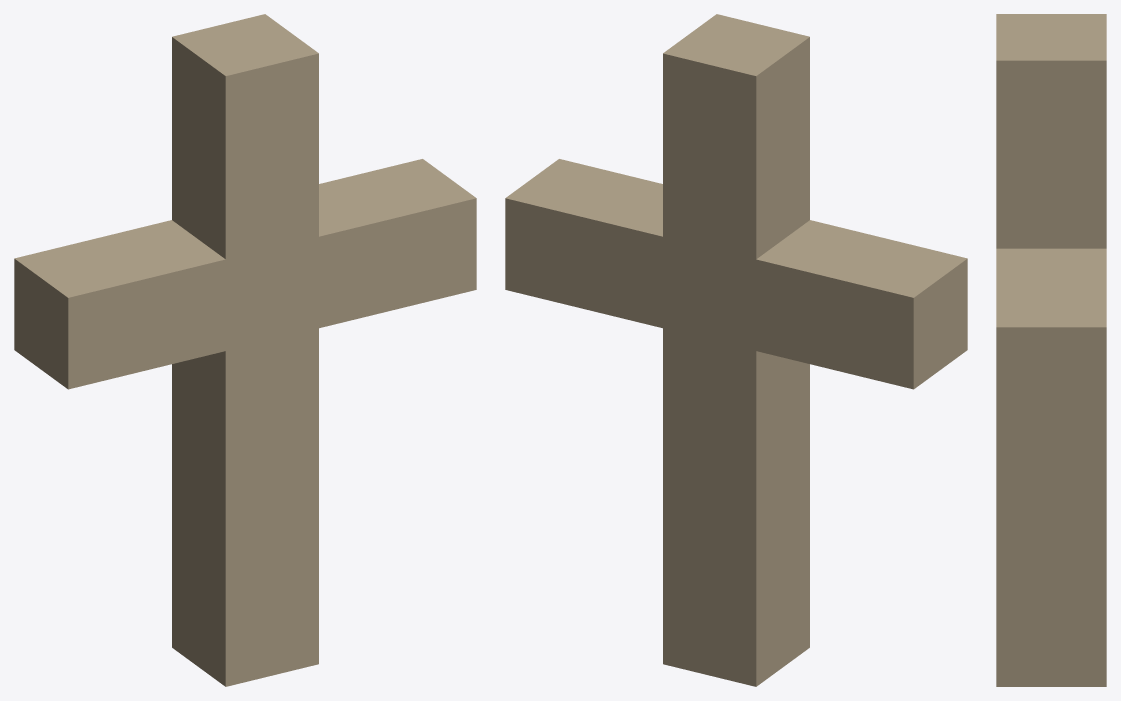
File: cruz.glb
3 views of the same model, side by side, from view 1: azimuth 30°, elevation 25°; view 2: azimuth 150°, elevation 25°; view 3: azimuth 270°, elevation 25° (orthographic). The views are drawn at different scales.
Parts seen in each view (by area): view 1: cruz; view 2: cruz; view 3: cruz.
Boxes of the visible parts, x1=… form: cruz: x1=14, y1=14, x2=476, y2=686; cruz: x1=505, y1=14, x2=967, y2=686; cruz: x1=996, y1=14, x2=1106, y2=686.
Bounding box in the file's own units: 0.7 × 1 × 0.16.
